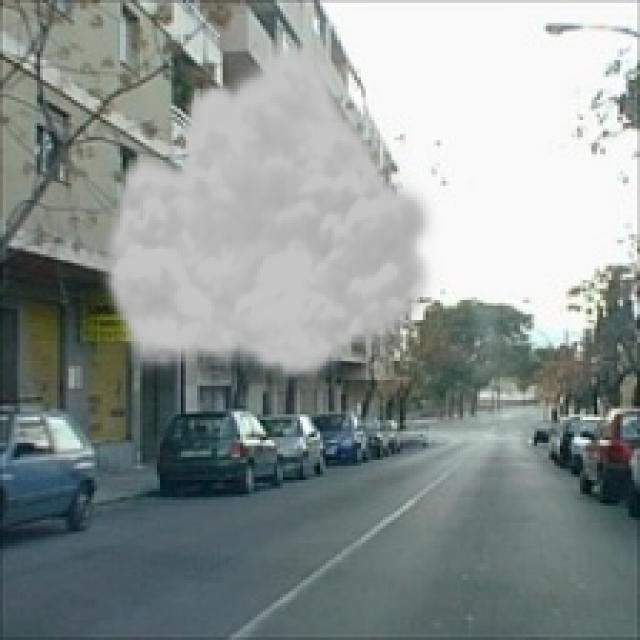smoke: (97, 31, 443, 383)
